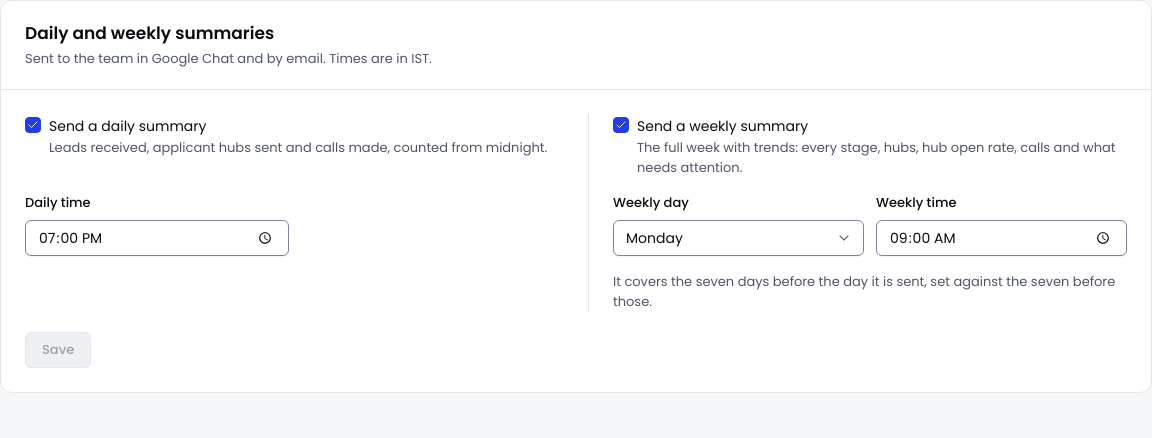
Test: DigestCard › will not save an empty time while the summary is on
Clear the time field labelled "Weekly time" at [1002, 238], box [876, 220, 1127, 256]
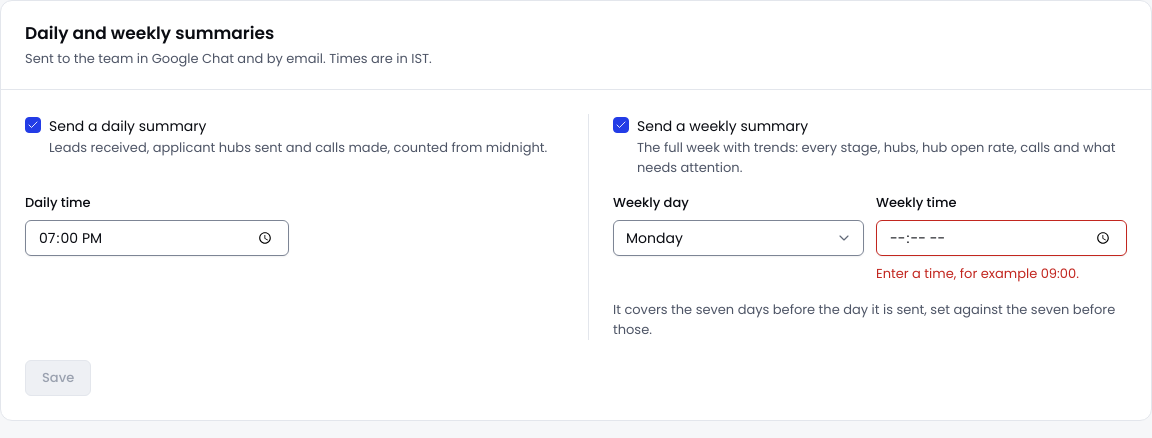
Expected: the button "Save" is disabled, [25, 360, 91, 396]
Now the text "Enter a time, for example 09:00." is shown, box [876, 264, 1079, 283]
